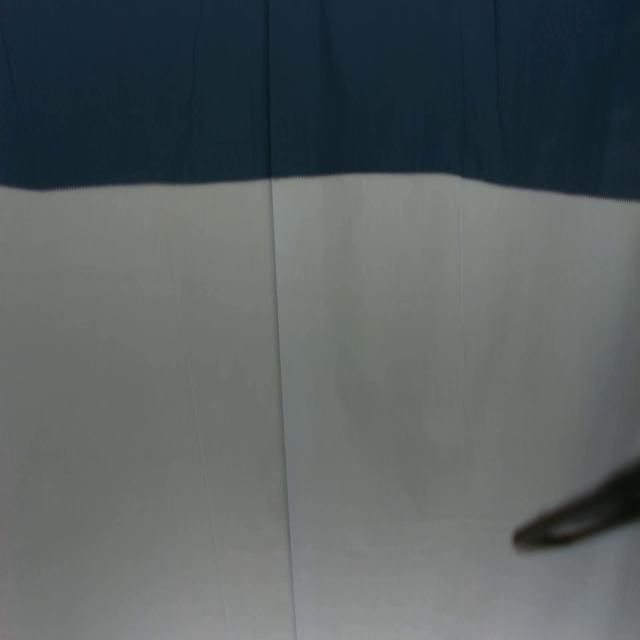crease: (162, 247, 234, 638), (262, 0, 298, 640)
